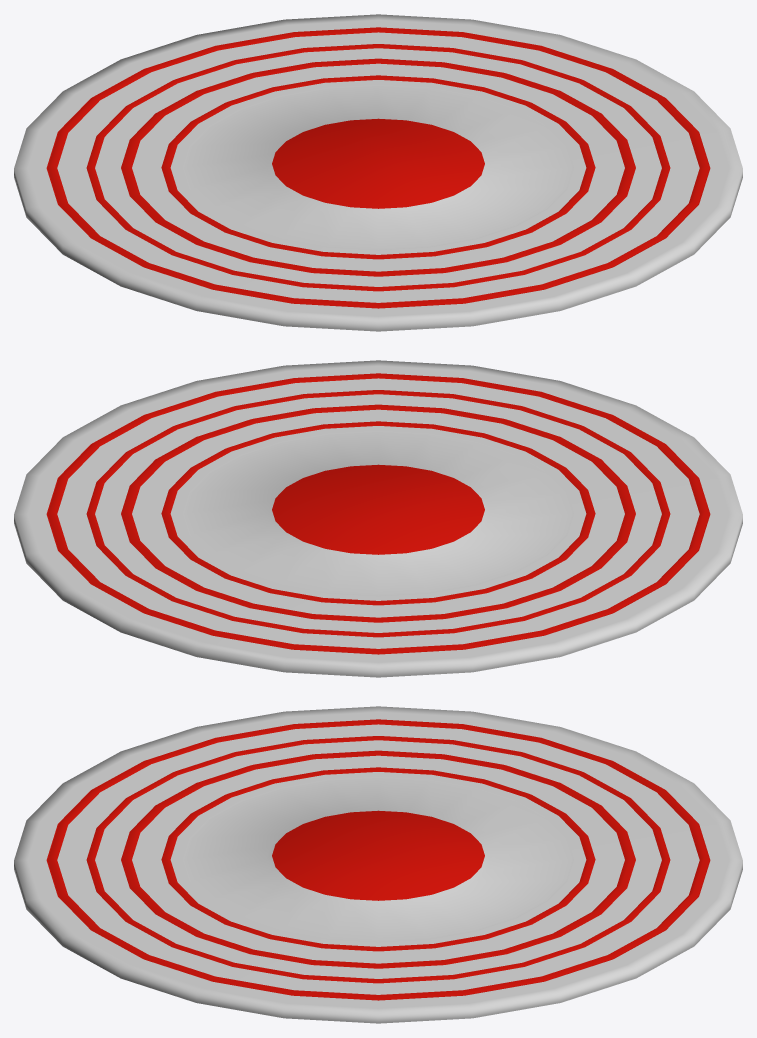
Rendered from RangeStyle4.fbx.
3 views of the same model, one above another, from view 1: azimuth 30°, elevation 25°; view 2: azimuth 150°, elevation 25°; view 3: azimuth 270°, elevation 25° (orthographic).
Visible parts, largest first — view 1: Cube.001, Cube; view 2: Cube.001, Cube; view 3: Cube.001, Cube.
Boxes of the visible parts, box(x1,y1,x2,y2) form: Cube.001: box(14, 14, 742, 331); Cube: box(47, 27, 709, 307); Cube.001: box(14, 360, 742, 677); Cube: box(47, 373, 709, 653); Cube.001: box(14, 706, 742, 1023); Cube: box(47, 719, 709, 999).
Size of the model in its own units: 219 by 4.57 by 219.
